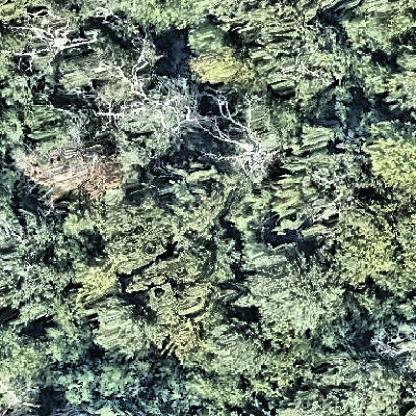tree-top: (62, 25, 174, 110), (241, 243, 343, 336), (269, 130, 367, 223), (1, 215, 88, 318), (255, 22, 348, 104), (338, 205, 416, 299), (120, 74, 207, 155), (304, 357, 412, 416), (29, 144, 127, 207), (96, 198, 172, 273), (156, 286, 225, 361), (1, 105, 84, 167), (166, 163, 236, 234), (2, 325, 56, 416), (1, 31, 60, 105), (172, 232, 236, 298), (365, 120, 416, 197), (213, 1, 327, 33), (206, 323, 268, 381), (341, 8, 414, 54), (114, 1, 212, 35), (361, 54, 416, 114), (98, 298, 155, 353), (187, 370, 252, 416), (190, 50, 257, 85), (94, 357, 148, 398)
